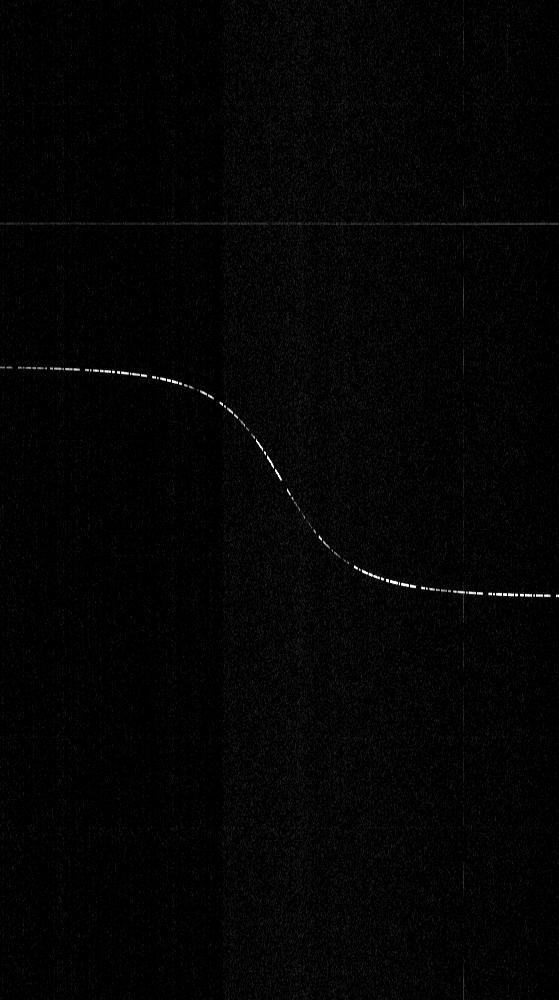signal: (0, 0, 558, 999)
